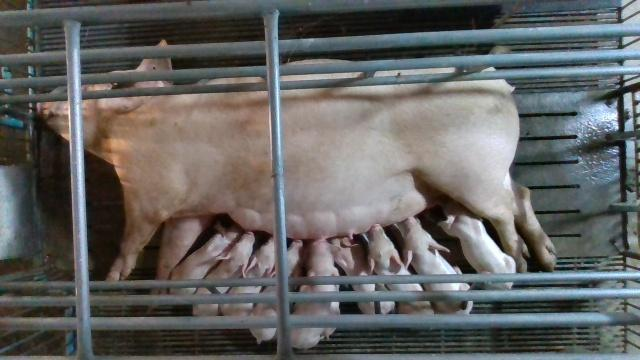piglet: (402, 212, 475, 315), (436, 201, 516, 290), (365, 222, 434, 315), (248, 236, 306, 343), (169, 218, 242, 296), (291, 238, 341, 351), (192, 230, 258, 315), (329, 235, 395, 315), (219, 234, 277, 315)
sow-sleep-lactate: (33, 38, 558, 314)
